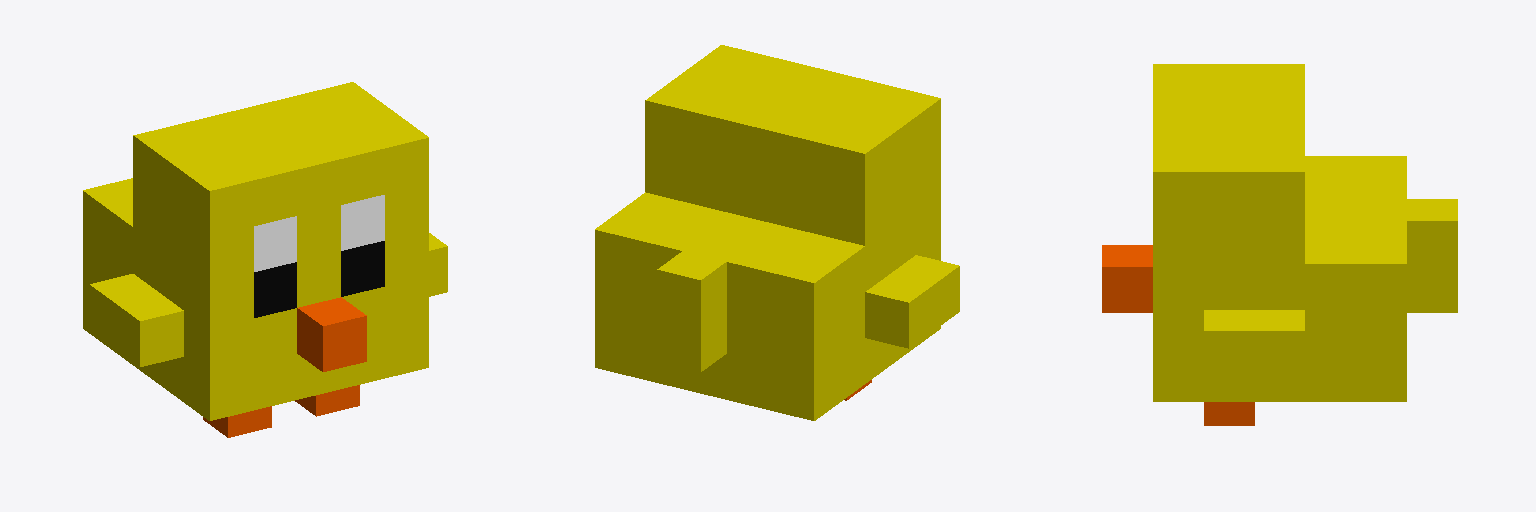
The picture shows the model from 3 angles: view 1: azimuth 30°, elevation 25°; view 2: azimuth 150°, elevation 25°; view 3: azimuth 270°, elevation 25°; orthographic projection.
Visible parts, largest first — view 1: baby_chicken; view 2: baby_chicken; view 3: baby_chicken.
Part boxes in pixels (x1,y1,x2,y2): baby_chicken: (83, 82, 447, 437); baby_chicken: (595, 45, 959, 420); baby_chicken: (1102, 64, 1457, 425).
Bounding box in the file's own units: 7 × 6 × 7.
1 materials, 1 textured.